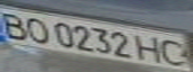0: (48, 19, 75, 49)
2: (109, 28, 136, 60), (69, 23, 93, 53)
3: (90, 25, 112, 56)
B: (0, 9, 33, 40)
C: (157, 37, 190, 67)
H: (133, 34, 166, 63)
O: (21, 15, 54, 45)
